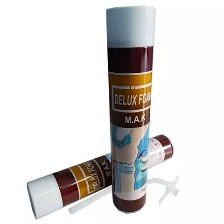aerosol_cans: (25, 132, 174, 221), (103, 2, 159, 216)
